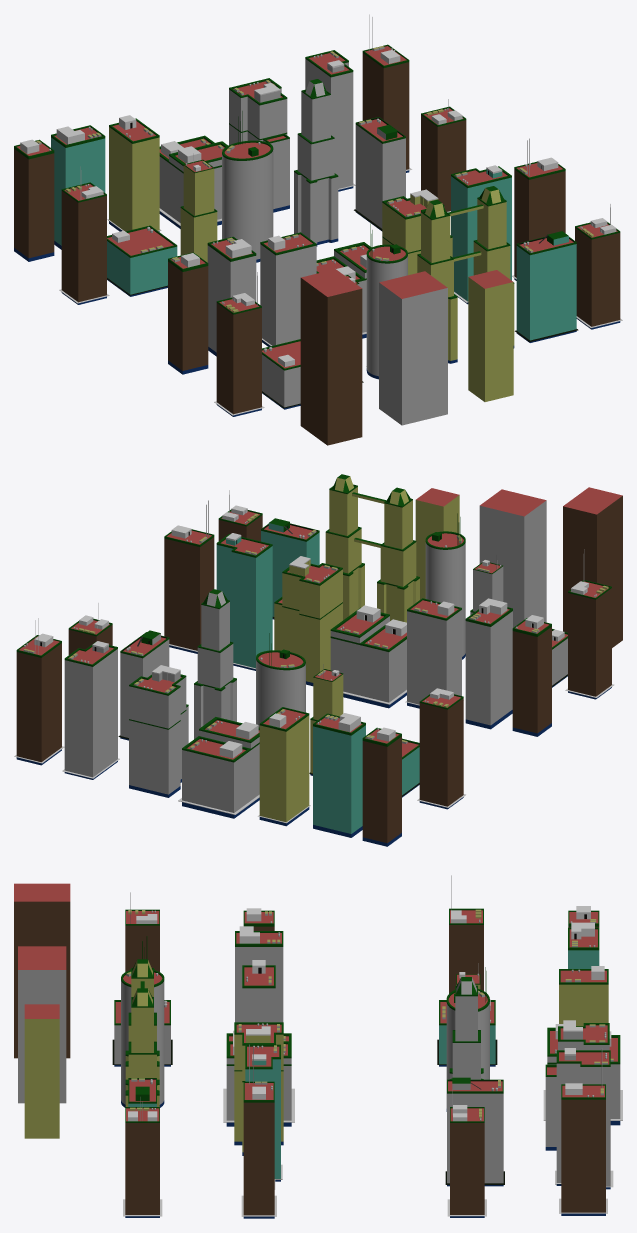
Rendered from uploads_files_2263021_Buildings+sprite.obj.
3 views of the same model, one above another, from view 1: azimuth 30°, elevation 25°; view 2: azimuth 150°, elevation 25°; view 3: azimuth 270°, elevation 25° (orthographic). The views are drawn at different scales.
Visible parts, largest first — view 1: Cube.001_Cube.051, Cube.002_Cube.052, Building_3_Cube.001, Building_2_Cube.002, Building_3.001_Cube.049, Cube.003_Cube.053, Building_12.001_Cube.040, Building_7_Cube.006, Building_7.001_Cube.045, Building_4.001_Cylinder.001, Building_12_Cube.012, Building_14.001_Cube.038 (+18 smaller); view 2: Building_3_Cube.001, Cube.002_Cube.052, Building_9.001_Cube.043, Building_10.001_Cube.042, Building_11.001_Cube.041, Cube.001_Cube.051, Building_11_Cube.011, Building_10_Cube.010, Building_9_Cube.009, Building_13.001_Cube.039, Building_13_Cube.013, Building_8.001_Cube.044 (+19 smaller); view 3: Building_8.001_Cube.044, Cube.003_Cube.053, Cube.001_Cube.051, Building_8_Cube.008, Cube.002_Cube.052, Building_1.001_Cube.050, Building_1_Cube, Building_2.001_Cube.048, Building_3_Cube.001, Building_9.001_Cube.043, Building_12.001_Cube.040, Building_13_Cube.013 (+17 smaller).
Boxes of the visible parts, box(x1,y1,x2,y2) form: Cube.001_Cube.051: box(300, 269, 362, 445); Cube.002_Cube.052: box(379, 271, 447, 425); Building_3_Cube.001: box(417, 186, 514, 363); Building_2_Cube.002: box(515, 231, 578, 342); Building_3.001_Cube.049: box(294, 79, 338, 246); Cube.003_Cube.053: box(468, 270, 513, 401); Building_12.001_Cube.040: box(107, 115, 161, 231); Building_7_Cube.006: box(214, 272, 264, 416); Building_7.001_Cube.045: box(59, 166, 109, 304); Building_4.001_Cylinder.001: box(222, 111, 273, 262); Building_12_Cube.012: box(260, 232, 316, 346); Building_14.001_Cube.038: box(14, 139, 54, 261); Building_3_Cube.001: box(325, 474, 419, 622); Cube.002_Cube.052: box(479, 489, 546, 627); Building_9.001_Cube.043: box(62, 641, 119, 779); Building_10.001_Cube.042: box(129, 665, 188, 797); Building_11.001_Cube.041: box(178, 717, 259, 818); Cube.001_Cube.051: box(563, 487, 622, 647); Building_11_Cube.011: box(330, 605, 406, 708); Building_10_Cube.010: box(274, 556, 342, 686); Building_9_Cube.009: box(216, 533, 272, 670); Building_13.001_Cube.039: box(313, 713, 365, 837); Building_13_Cube.013: box(465, 598, 512, 729); Building_8.001_Cube.044: box(14, 618, 64, 765); Building_8.001_Cube.044: box(559, 1048, 607, 1215); Cube.003_Cube.053: box(24, 1004, 59, 1138); Cube.001_Cube.051: box(14, 883, 70, 1058); Building_8_Cube.008: box(241, 1044, 276, 1218); Cube.002_Cube.052: box(18, 946, 66, 1103); Building_1.001_Cube.050: box(447, 1089, 486, 1217); Building_1_Cube: box(123, 1097, 162, 1217); Building_2.001_Cube.048: box(445, 1077, 504, 1186); Building_3_Cube.001: box(125, 959, 159, 1106); Building_9.001_Cube.043: box(555, 1048, 613, 1189); Building_12.001_Cube.040: box(559, 966, 608, 1026); Building_13_Cube.013: box(235, 926, 283, 1022).
Bounding box in the file's own units: 33.68 × 12.86 × 42.82.
